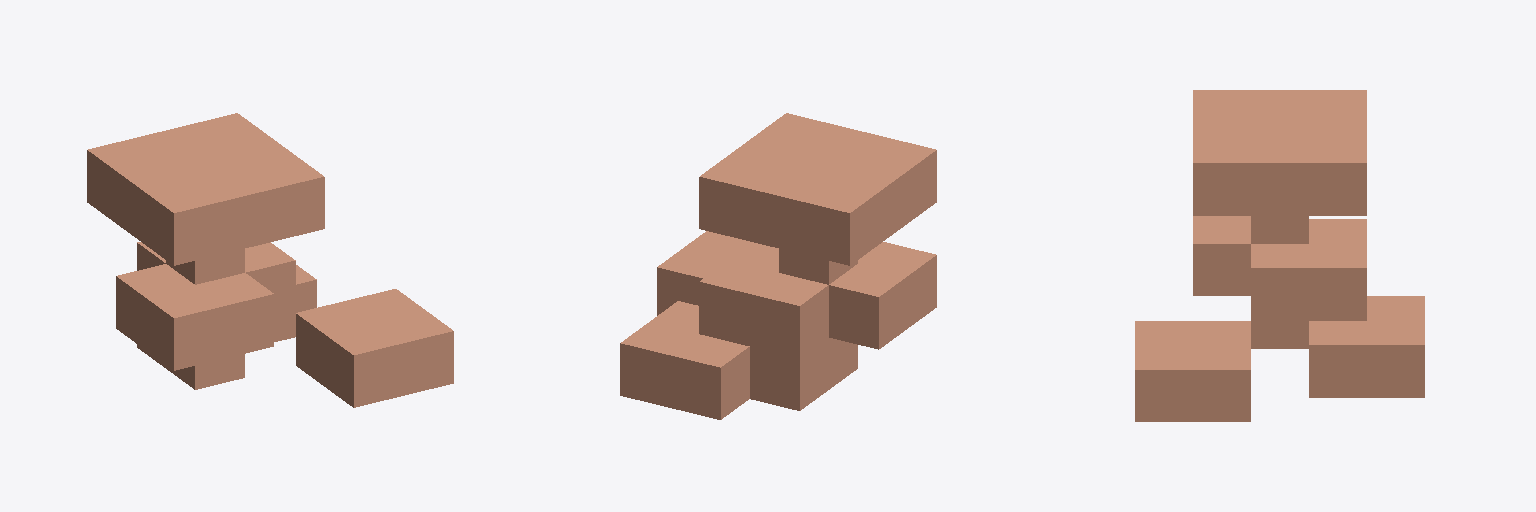
3 views of the same model, side by side, from view 1: azimuth 30°, elevation 25°; view 2: azimuth 150°, elevation 25°; view 3: azimuth 270°, elevation 25° (orthographic).
Visible parts, largest first — view 1: object 1; view 2: object 1; view 3: object 1.
Boxes of the visible parts, x1=… form: object 1: x1=87, y1=113, x2=453, y2=407; object 1: x1=620, y1=113, x2=936, y2=419; object 1: x1=1135, y1=90, x2=1424, y2=421.
Bounding box in the file's own units: 0.5 × 0.4 × 0.5.
Materials: 1 (1 with a texture image).